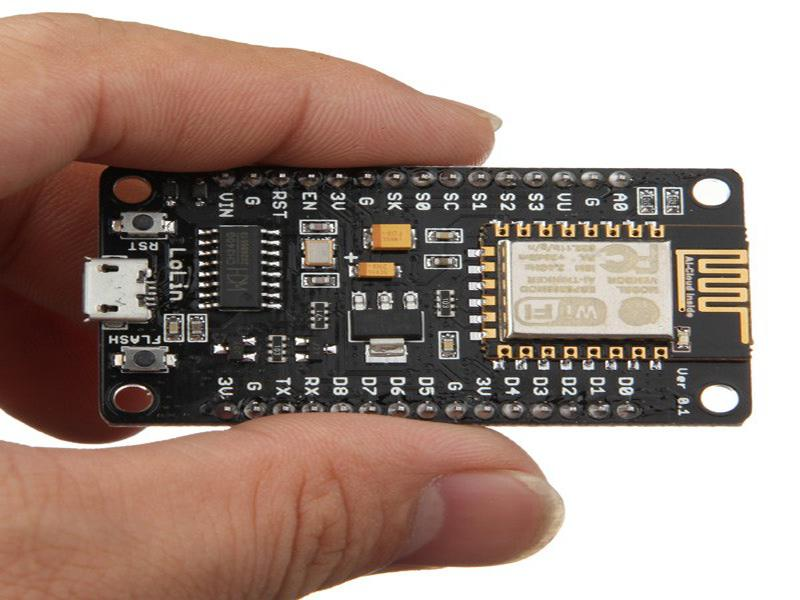NodeMCU: (82, 163, 759, 428)
